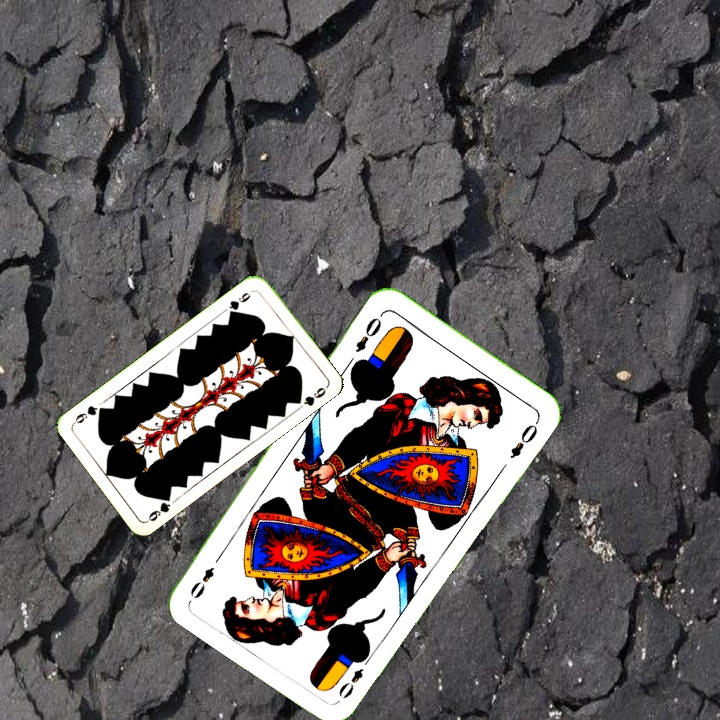EO: (334, 651, 374, 702), (350, 309, 386, 356)
G9: (225, 286, 257, 318), (143, 490, 173, 524)
